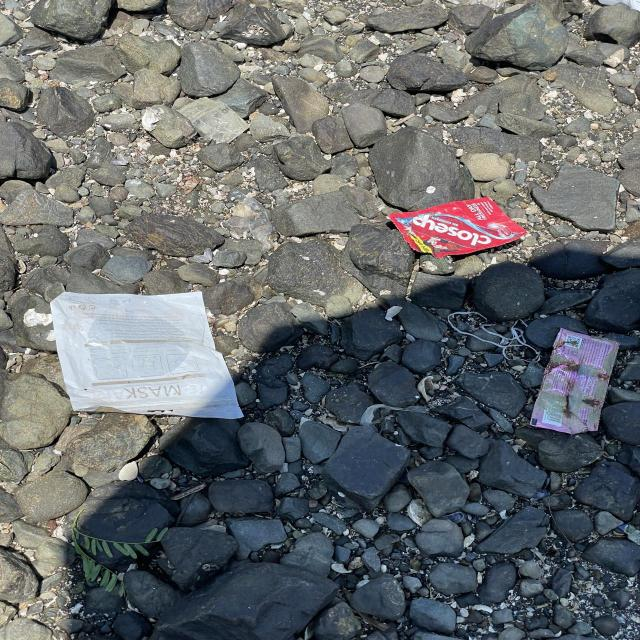plastic_waste: (53, 295, 248, 421), (532, 327, 622, 435), (390, 197, 533, 259)
